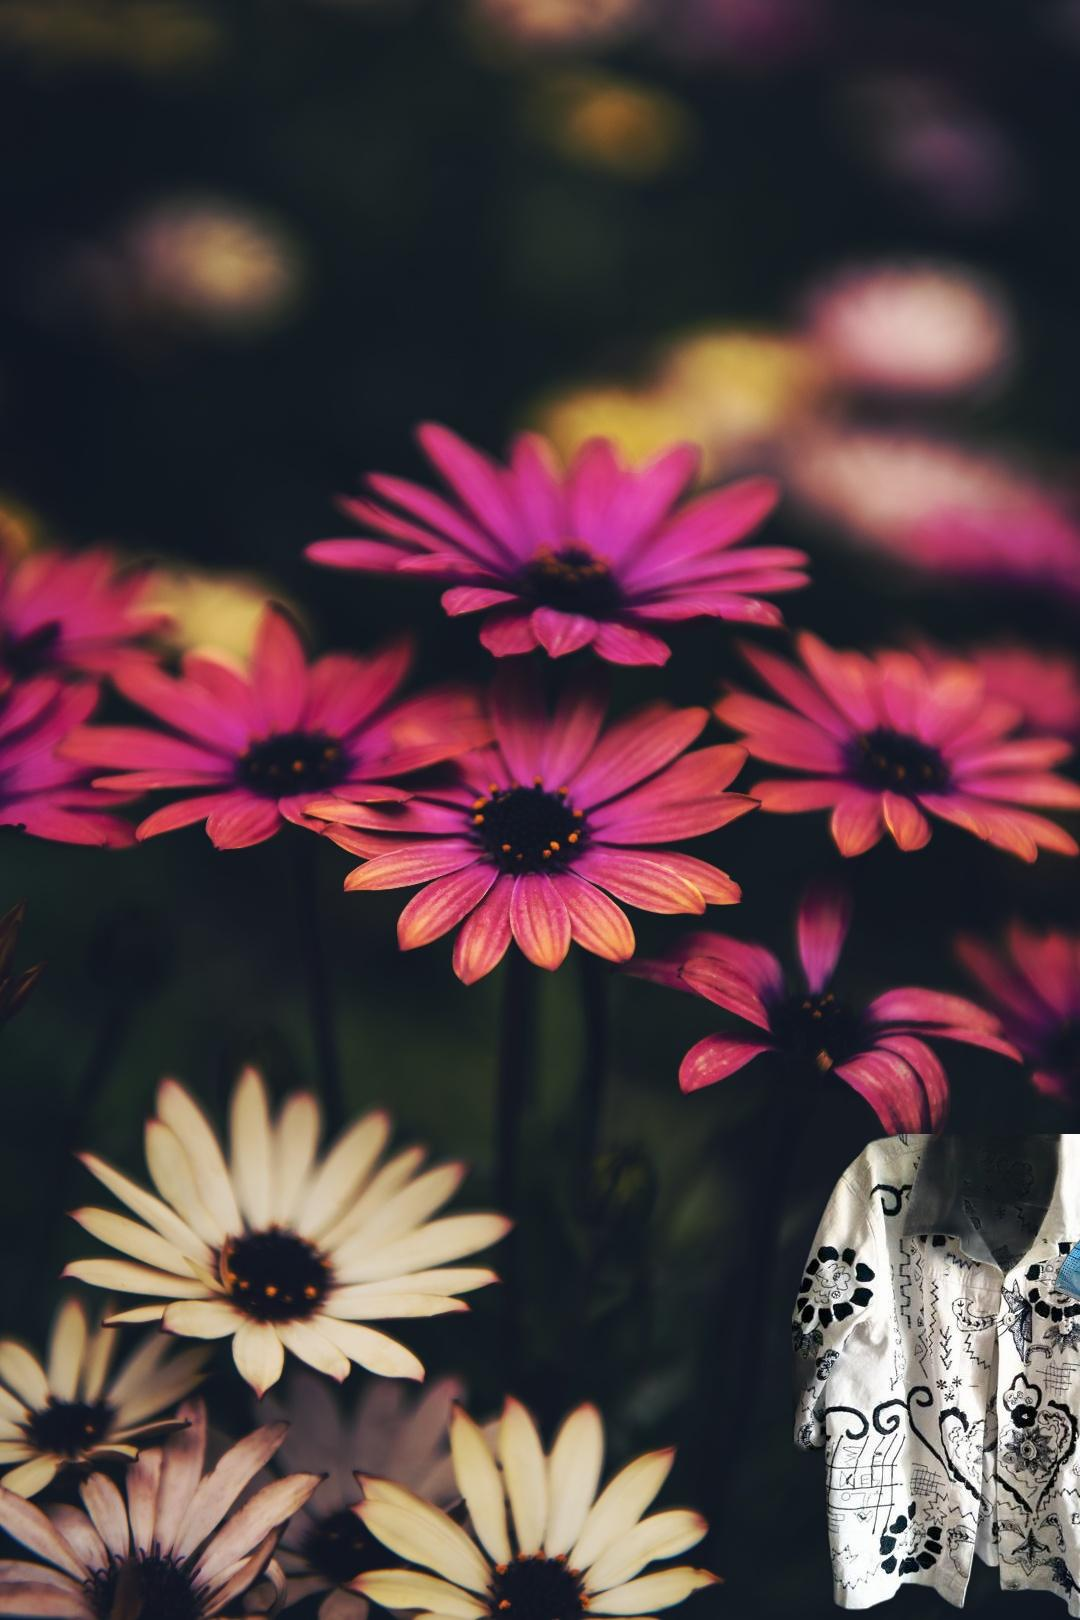clothes: (792, 1134, 1080, 1620)
trash: (1014, 1221, 1080, 1358)
